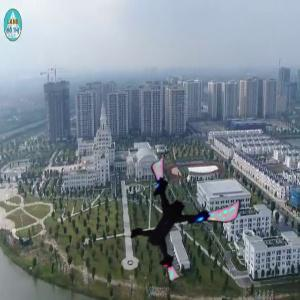drone: (119, 157, 231, 269)
